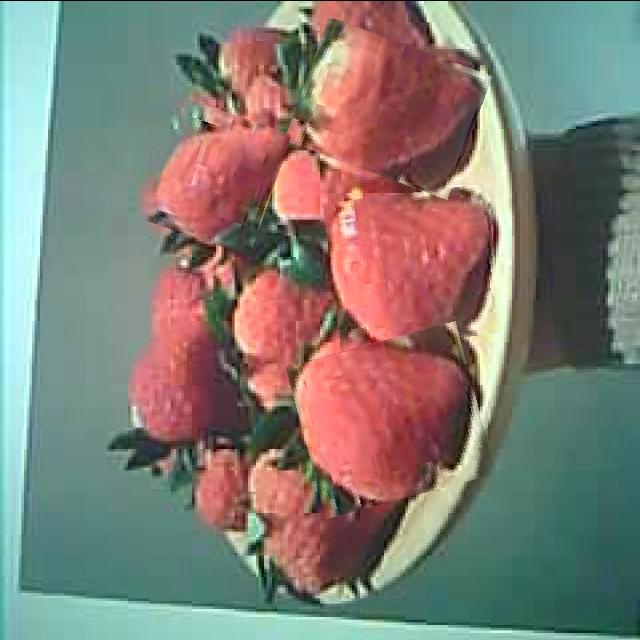strawberry: (295, 330, 488, 508), (293, 29, 484, 187), (328, 188, 500, 346), (154, 104, 282, 248)
